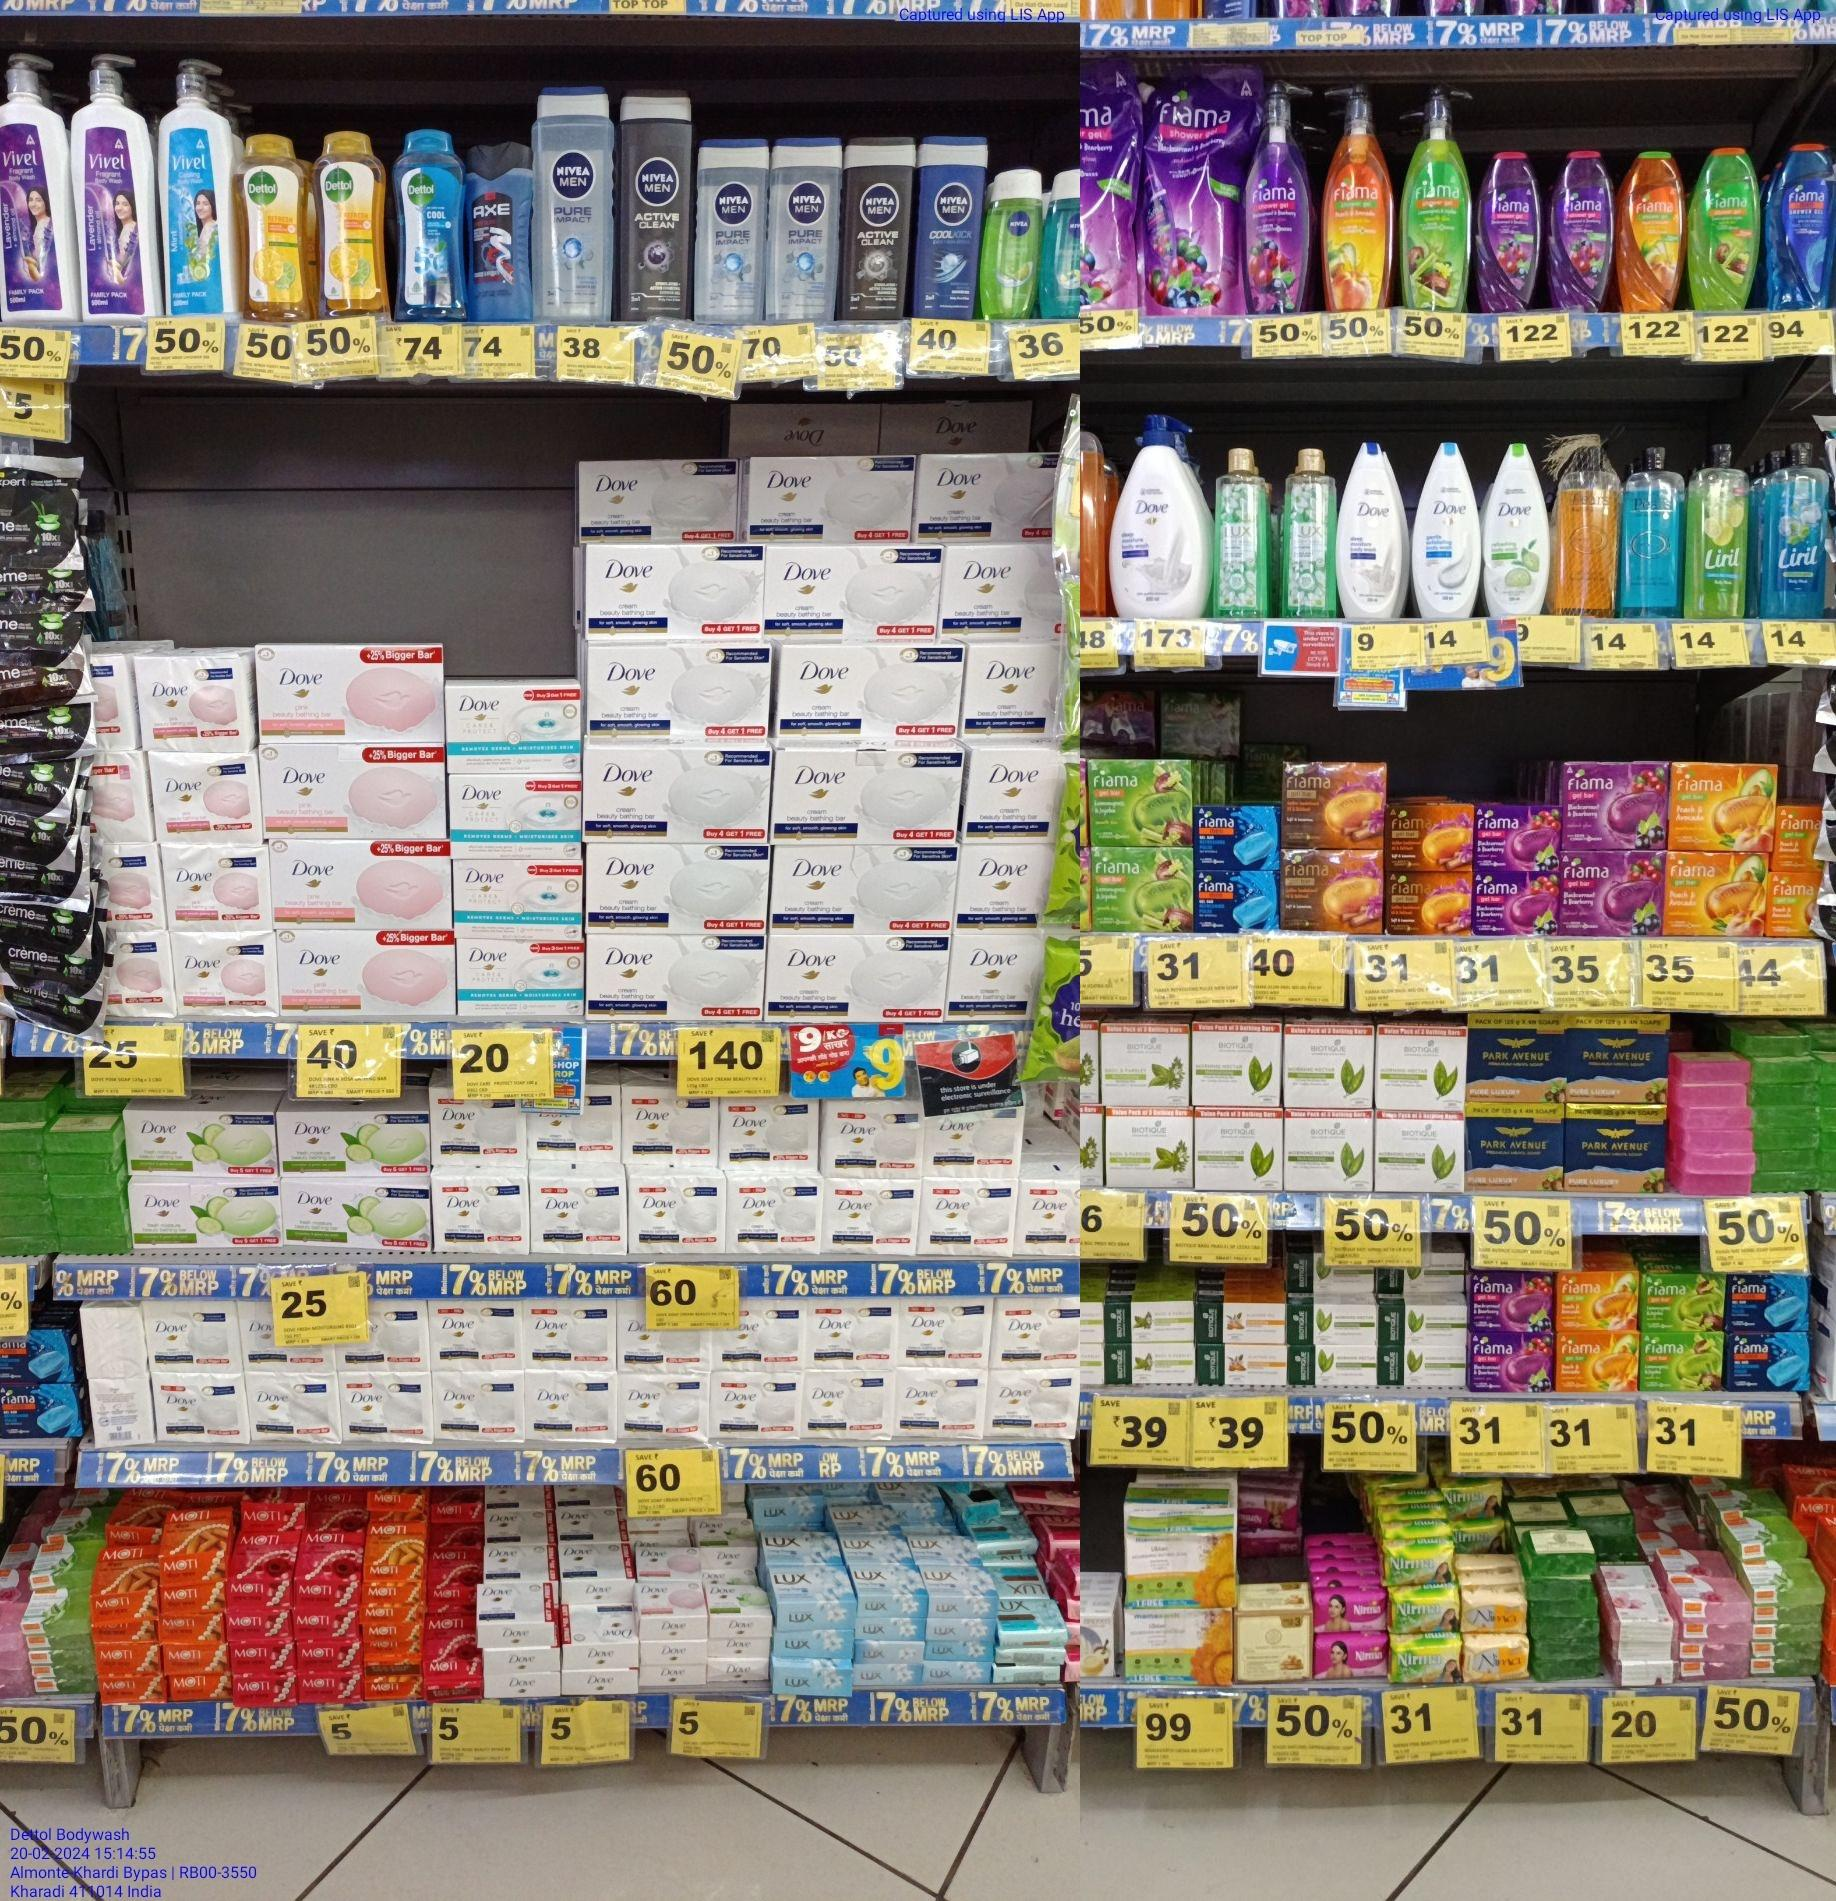Dettol_Bodywash_Cool: (394, 129, 470, 322)
Dettol_Bodywash_Refresh: (236, 132, 309, 319), (316, 131, 389, 314)
Dove_Deep_Moisture_Body_Wash_250ML: (1337, 440, 1403, 620)
Dove_Gentle_Exfoliating_Body_Wash_250ML: (1410, 438, 1480, 623)
Dove_Refreshing_Body_Wash_250ML: (1483, 441, 1549, 614)
Fiama_Shower_Gel_Lemongrass_and_Jojoba_250ML: (1690, 148, 1760, 311)
Fiama_Shower_Gel_Peach_and_Avocado_250ML: (1617, 151, 1683, 309)
Liril_Cooling_Mint_Body_Wash_250ML: (1765, 436, 1828, 620)
Liril_Lime_and_Tea_Tree_Oil_Body_Wash_250ML: (1685, 440, 1749, 621)
Lux_Body_Wash_Skin_Detox_Freesia_Scent_and_Alove_Vera_245ML: (1213, 445, 1269, 616), (1283, 445, 1330, 620)
Nivea_Shower_Gel_Lemon_and_Oil_250ML: (981, 165, 1044, 316)
Pears_Pure_Glycerin_and_Mint_Extracts_Body_Wash_250ML: (1620, 445, 1682, 616)
